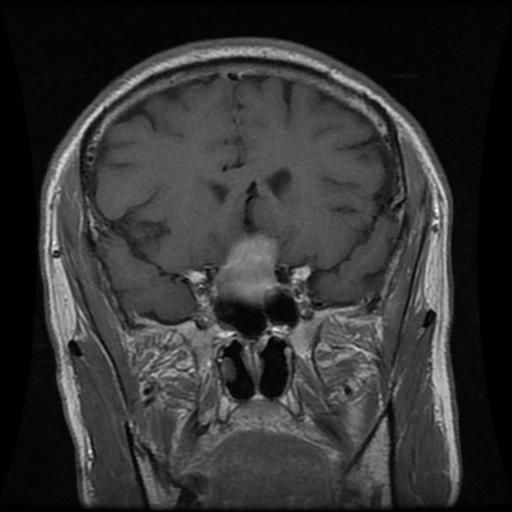Pituirity_tumour: (210, 231, 281, 304)
